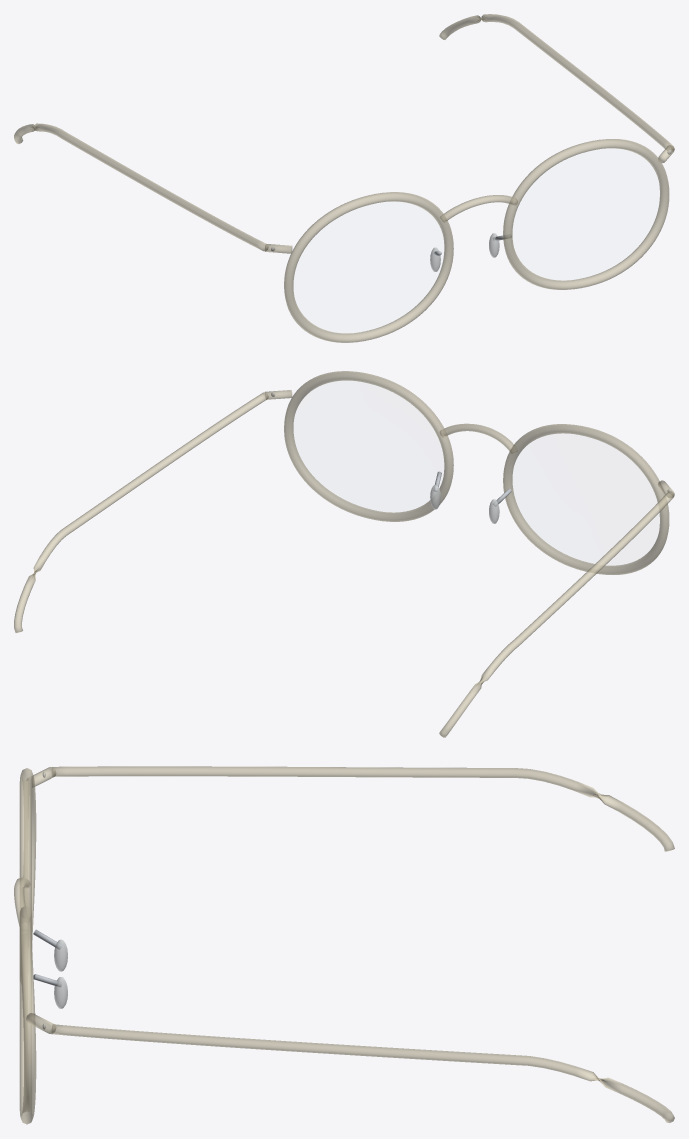
The model's file is tim-62-v1.glb.
The picture shows the model from 3 angles, top to bottom: view 1: azimuth 30°, elevation 25°; view 2: azimuth 150°, elevation 25°; view 3: azimuth 270°, elevation 25°; orthographic projection. The views are drawn at different scales.
Visible parts, largest first — view 1: rim_right, rim_left, temple_right, temple_left, bridge; view 2: rim_left, rim_right, temple_left, temple_right, bridge; view 3: temple_right, temple_left, rim_left, rim_right.
Part boxes in pixels (<box>): rim_right: <box>284,192,453,342</box>; rim_left: <box>503,139,669,289</box>; temple_right: <box>14,123,268,251</box>; temple_left: <box>439,14,674,151</box>; bridge: <box>440,195,517,222</box>; rim_left: <box>284,371,453,521</box>; rim_right: <box>503,424,669,574</box>; temple_left: <box>14,392,268,633</box>; temple_right: <box>439,491,674,737</box>; bridge: <box>440,423,517,454</box>; temple_right: <box>52,766,674,851</box>; temple_left: <box>51,1024,674,1122</box>; rim_left: <box>19,906,36,1124</box>; rim_right: <box>19,768,36,981</box>.
Size of the model in its own units: 0.1564 by 0.047 by 0.1498.
